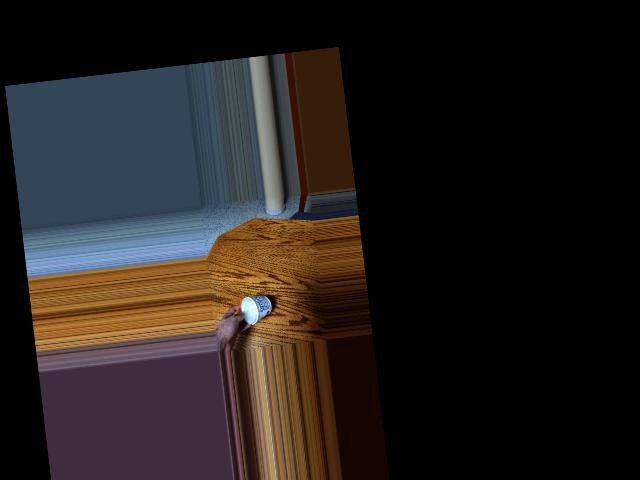cotage: (241, 290, 273, 324)
